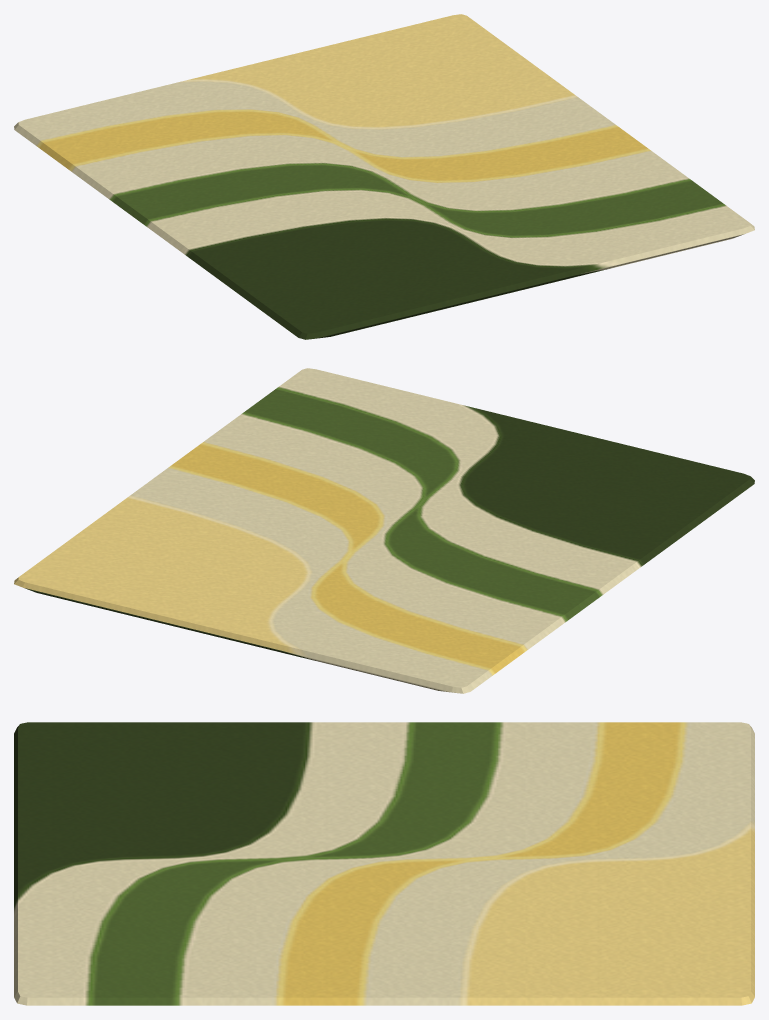
Rendered from Throw_Rug_08.FBX.
3 renders of one model, top to bottom at view 1: azimuth 30°, elevation 25°; view 2: azimuth 150°, elevation 25°; view 3: azimuth 270°, elevation 25°, orthographic. The views are drawn at different scales.
Parts seen in each view (by area): view 1: Shag_Carpet; view 2: Shag_Carpet; view 3: Shag_Carpet.
Part boxes in pixels (box(x1,y1,x2,y2)): Shag_Carpet: box(14, 14, 754, 339); Shag_Carpet: box(14, 368, 754, 693); Shag_Carpet: box(14, 722, 754, 1005).
Size of the model in its own units: 244 by 3.17 by 273.
